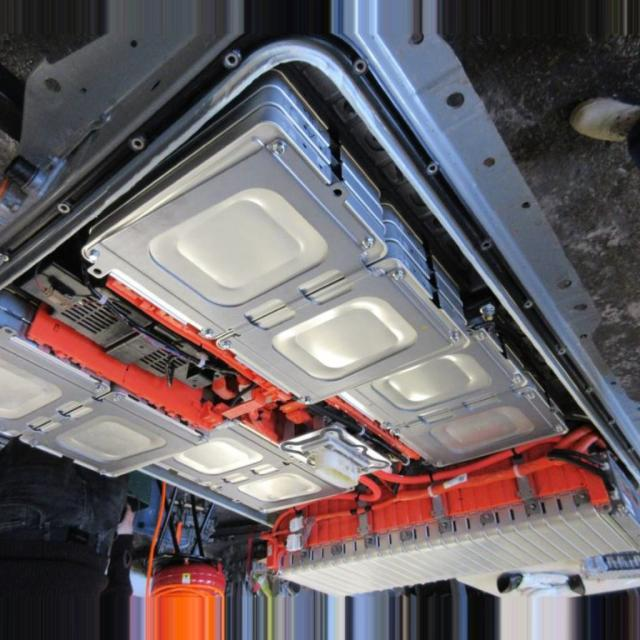Battery Module: (104, 125, 549, 464), (293, 514, 633, 597), (3, 343, 185, 475), (163, 440, 321, 520), (382, 420, 402, 440)
Bolt: (85, 248, 105, 265), (396, 265, 411, 286), (274, 140, 288, 162), (514, 370, 524, 396), (362, 236, 377, 253), (25, 435, 42, 448), (204, 324, 216, 342), (221, 336, 232, 355), (92, 383, 105, 398), (448, 329, 459, 346), (3, 324, 16, 338), (302, 391, 312, 409), (476, 331, 487, 347), (198, 434, 209, 449), (112, 394, 123, 406), (554, 421, 564, 434), (98, 467, 107, 478)
Bus-bar: (109, 279, 285, 405), (30, 314, 215, 427), (224, 396, 264, 423)
Cable: (297, 439, 570, 533)
Nut: (481, 302, 497, 322), (365, 529, 379, 548), (528, 502, 542, 518), (401, 528, 413, 546), (479, 512, 494, 526), (330, 544, 343, 558), (576, 491, 590, 501), (439, 521, 451, 531)
